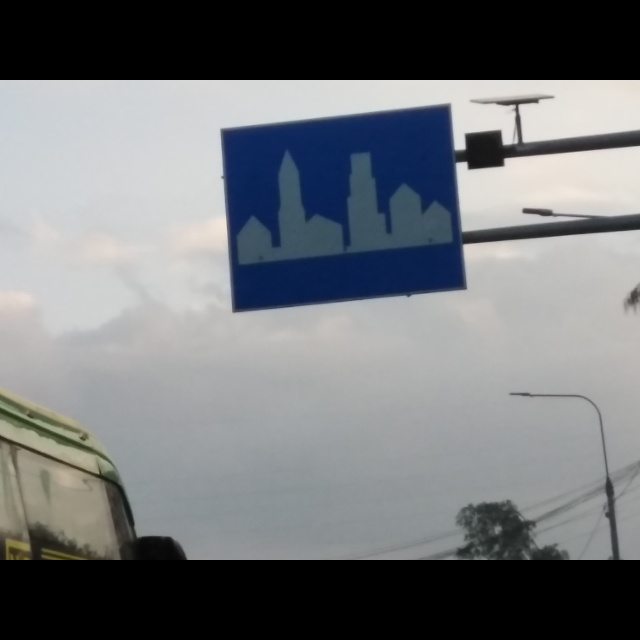Khu đông dân cư: (213, 100, 467, 313)
